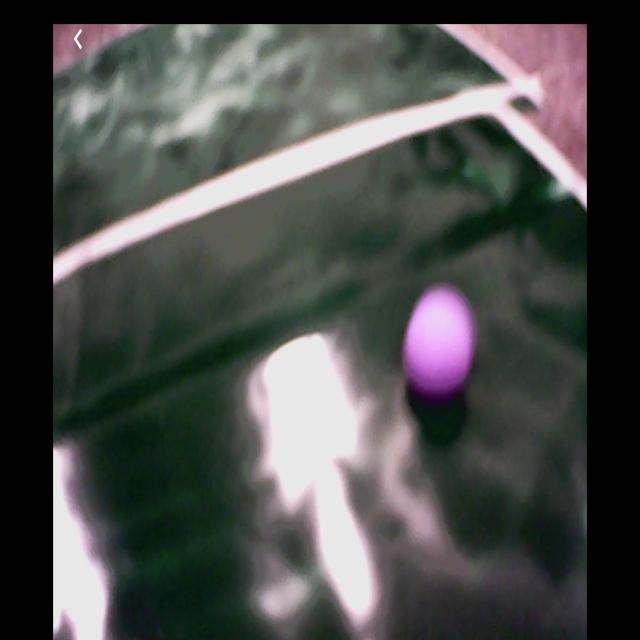ball: (401, 282, 476, 400)
